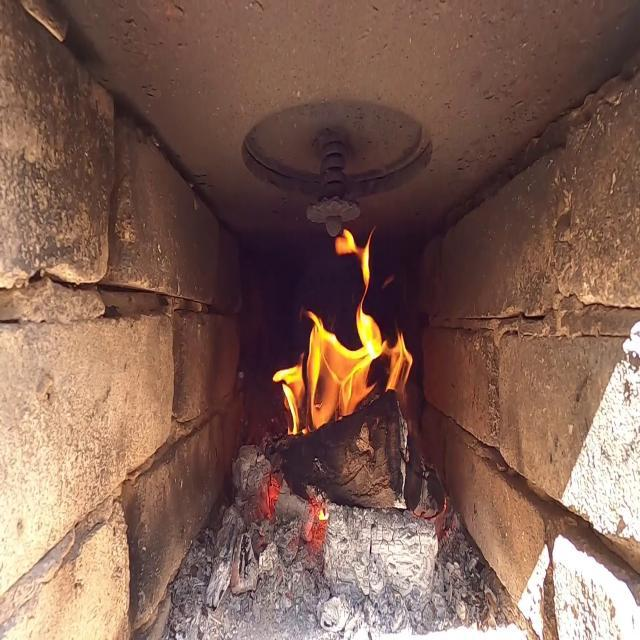Fire: (273, 241, 415, 438)
